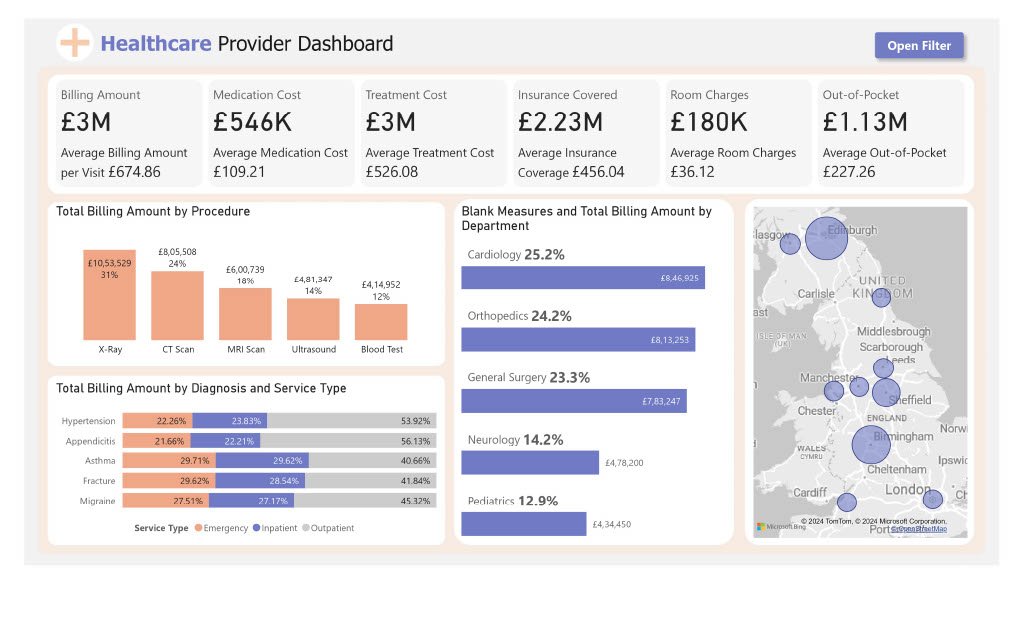

The dashboard page shown, as its layout file describes it:
{"tool":"powerbi","page":{"name":"Detail Page","canvas":[1280,720],"ordinal":0},"visuals":[{"type":"cardVisual","fields":{"Data":["DAX Calculation.Total Billing Amount","DAX Calculation.Total Medication cost","DAX Calculation.Total Treatment cost","DAX Calculation.Total Insurance covered","DAX Calculation.Total Room Charges","DAX Calculation.Out-of-Pocket"]},"box":[37.4,76.3,1205.3,149.8],"z":0},{"type":"actionButton","title":"Open","box":[1107.3,8.9,135.4,52.1],"z":1000,"group":"g1"},{"type":"map","fields":{"Category":["cities.City"],"Size":["DAX Calculation.Total Billing Amount"]},"box":[951.8,243.4,290.9,443.5],"z":1000},{"type":"clusteredColumnChart","fields":{"Category":["procedures.Procedure"],"Y":["DAX Calculation.Total Billing Amount"]},"box":[37.4,243.4,508.3,208.8],"z":2000},{"type":"hundredPercentStackedBarChart","fields":{"Y":["DAX Calculation.Total Billing Amount"],"Category":["diagnoses.Diagnosis"],"Series":["visits.Service Type"]},"box":[37.4,475.2,508.3,211.7],"z":3000},{"type":"clusteredBarChart","title":"Total Billing Amount by Department","fields":{"Category":["departments.Department"],"Y":["DAX Calculation.Blank Measures","DAX Calculation.Total Billing Amount"]},"box":[568.8,243.4,357.1,443.5],"z":4000},{"type":"textbox","box":[95,10.1,403.2,51.8],"z":5000},{"type":"group","id":"g1","title":"Slicer Btns","box":[1107.3,8.9,135.4,52.1],"z":7000},{"type":"image","box":[37.4,1.4,59,60.5],"z":8000}]}

Visuals, with their boxes on the page's 1280x720 design canvas (x1, y1, x2, y2). These are canvas units, not pixel positions in the 1024x622 screenshot, which may show the page scaled, cropped or inside an application window:
cardVisual - DAX Calculation.Total Billing Amount x DAX Calculation.Total Medication cost: {"left": 37, "top": 76, "right": 1243, "bottom": 226}
"Open" actionButton: {"left": 1107, "top": 9, "right": 1243, "bottom": 61}
map - cities.City x DAX Calculation.Total Billing Amount: {"left": 952, "top": 243, "right": 1243, "bottom": 687}
clusteredColumnChart - procedures.Procedure x DAX Calculation.Total Billing Amount: {"left": 37, "top": 243, "right": 546, "bottom": 452}
hundredPercentStackedBarChart - DAX Calculation.Total Billing Amount x diagnoses.Diagnosis: {"left": 37, "top": 475, "right": 546, "bottom": 687}
"Total Billing Amount by Department" clusteredBarChart: {"left": 569, "top": 243, "right": 926, "bottom": 687}
textbox: {"left": 95, "top": 10, "right": 498, "bottom": 62}
"Slicer Btns" group: {"left": 1107, "top": 9, "right": 1243, "bottom": 61}
image: {"left": 37, "top": 1, "right": 96, "bottom": 62}
